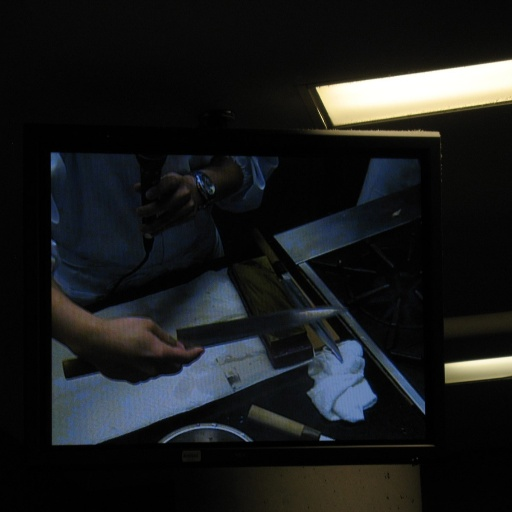hand: (91, 315, 206, 387), (140, 168, 200, 232)
